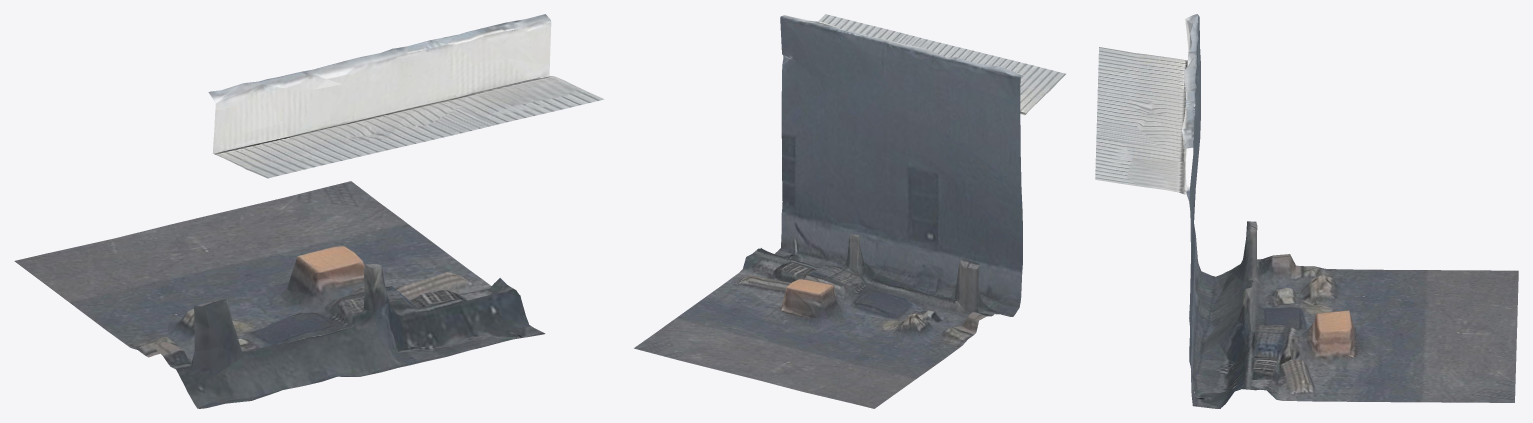
Rendered from Tile_+007_+005_L21_0uuuu001.glb.
3 renders of one model, left to right at view 1: azimuth 30°, elevation 25°; view 2: azimuth 150°, elevation 25°; view 3: azimuth 270°, elevation 25°, orthographic. The views are drawn at different scales.
Parts seen in each view (by area): view 1: rtc; view 2: rtc; view 3: rtc.
Boxes of the visible parts, x1,y1,x2,y2 form: rtc: (14, 14, 604, 408); rtc: (634, 14, 1065, 408); rtc: (1095, 14, 1518, 408).
Size of the model in its own units: 14.27 by 13.24 by 19.01.
Materials: 1 (1 with a texture image).
